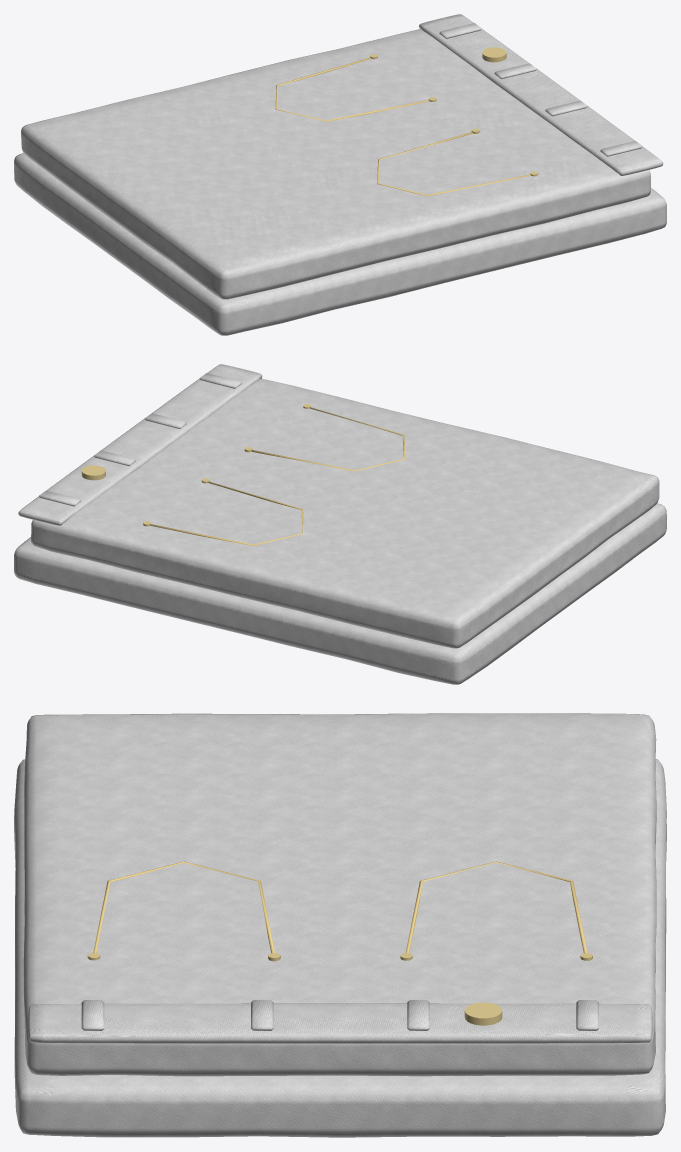
Rendered from jeans.glb.
The picture shows the model from 3 angles, top to bottom: view 1: azimuth 30°, elevation 25°; view 2: azimuth 150°, elevation 25°; view 3: azimuth 270°, elevation 25°; orthographic projection. The views are drawn at different scales.
Visible parts, largest first — view 1: jeans_top, jeans_bottom, jeans_band, jeans_pocket1, jeans_pocket-1; view 2: jeans_top, jeans_bottom, jeans_band, jeans_pocket1, jeans_pocket-1; view 3: jeans_top, jeans_bottom, jeans_band, jeans_pocket1, jeans_pocket-1, jeans_button, jeans_loop-0.38, jeans_loop0.38, jeans_loop-0.12, jeans_loop0.12.
Boxes of the visible parts, bbox=[...] form: jeans_top: bbox=[21, 29, 650, 299]; jeans_bottom: bbox=[14, 153, 666, 335]; jeans_band: bbox=[419, 14, 663, 175]; jeans_pocket1: bbox=[275, 57, 429, 121]; jeans_pocket-1: bbox=[377, 132, 530, 196]; jeans_top: bbox=[31, 378, 659, 648]; jeans_bottom: bbox=[14, 503, 666, 684]; jeans_band: bbox=[18, 364, 262, 525]; jeans_pocket1: bbox=[150, 481, 303, 545]; jeans_pocket-1: bbox=[251, 407, 405, 471]; jeans_top: bbox=[23, 713, 656, 1076]; jeans_bottom: bbox=[14, 759, 666, 1137]; jeans_band: bbox=[28, 1003, 652, 1043]; jeans_pocket1: bbox=[405, 861, 587, 952]; jeans_pocket-1: bbox=[93, 861, 274, 953]; jeans_button: bbox=[464, 1002, 502, 1025]; jeans_loop-0.38: bbox=[81, 1000, 104, 1030]; jeans_loop0.38: bbox=[576, 1000, 598, 1030]; jeans_loop-0.12: bbox=[251, 1000, 273, 1030]; jeans_loop0.12: bbox=[407, 1000, 429, 1030].
Size of the model in its own units: 32.06 by 5.13 by 26.09.
3 materials, 1 textured.
